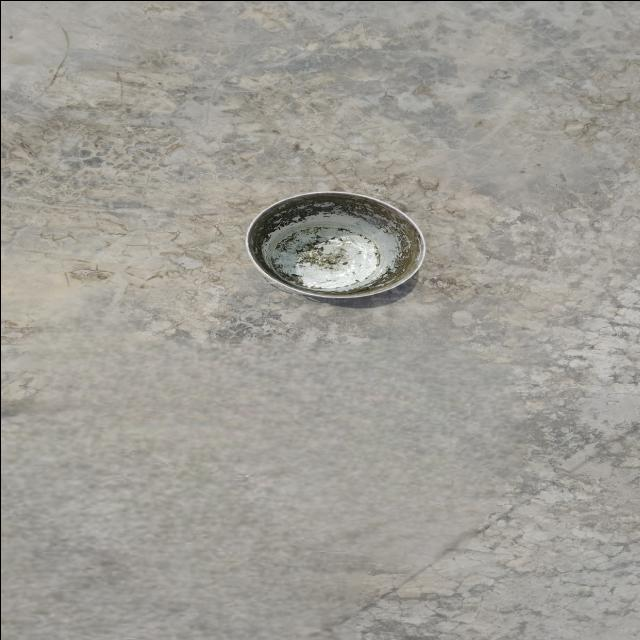Breeding Place: (220, 172, 447, 316)
